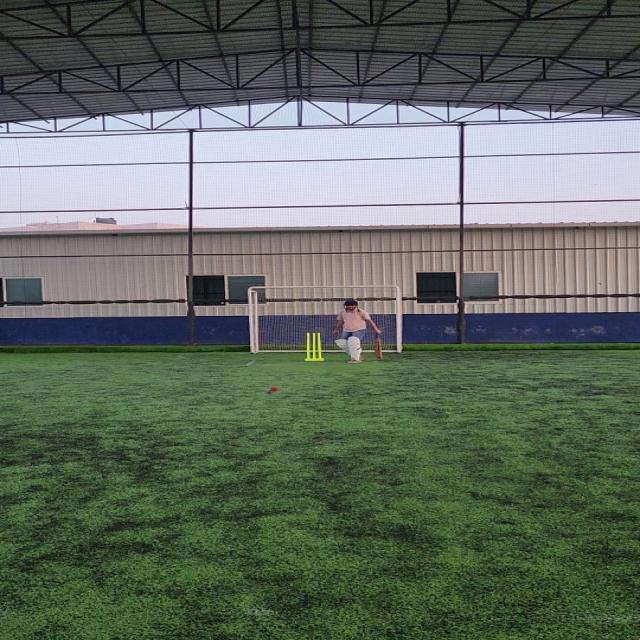ball: (266, 384, 278, 393)
stump: (301, 332, 325, 362)
